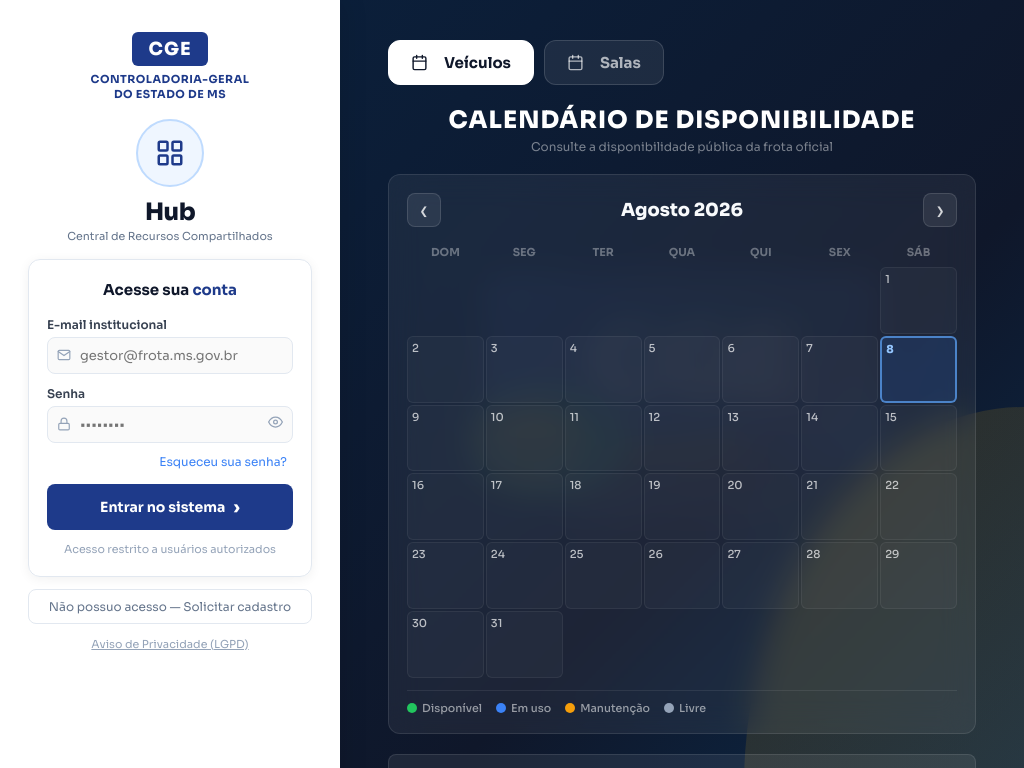
Scenario: Login — submissão do formulário › exibe mensagem de erro quando login falha
The image size is (1024, 768).
Type "errado@cge.ms.gov.br" into the field labelled "E-mail institucional". click: (170, 355)
box: [47,337,293,374]
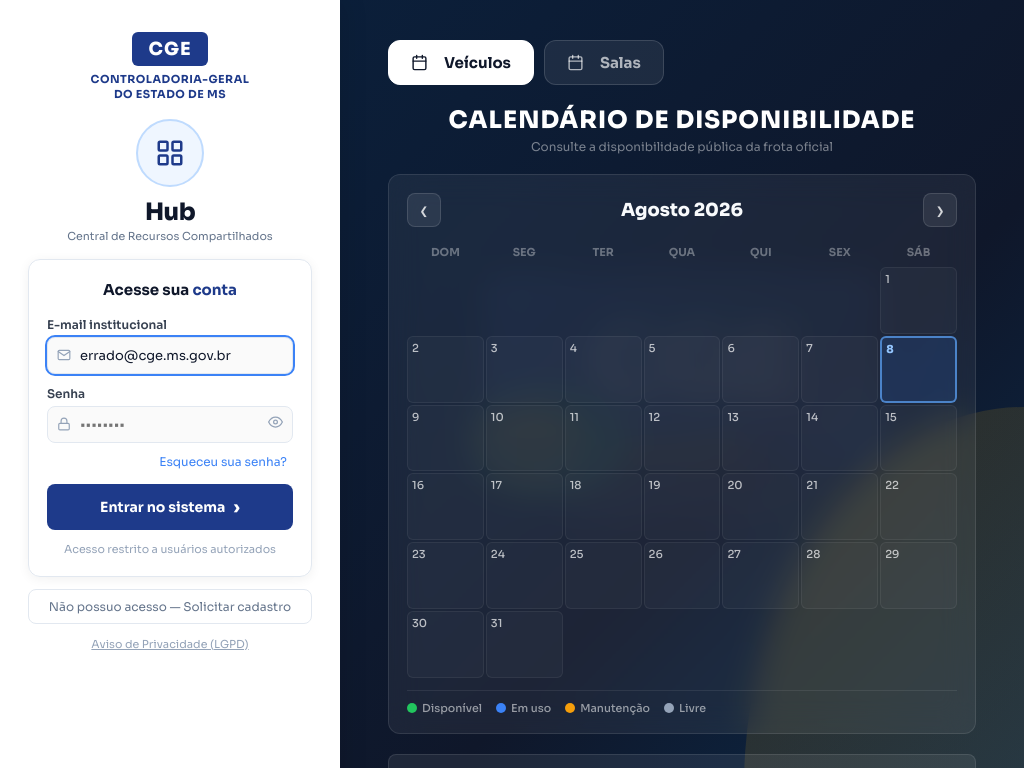
Type "senhaerrada" into the password field labelled "Senha". click: (170, 424)
box: [47,406,293,443]
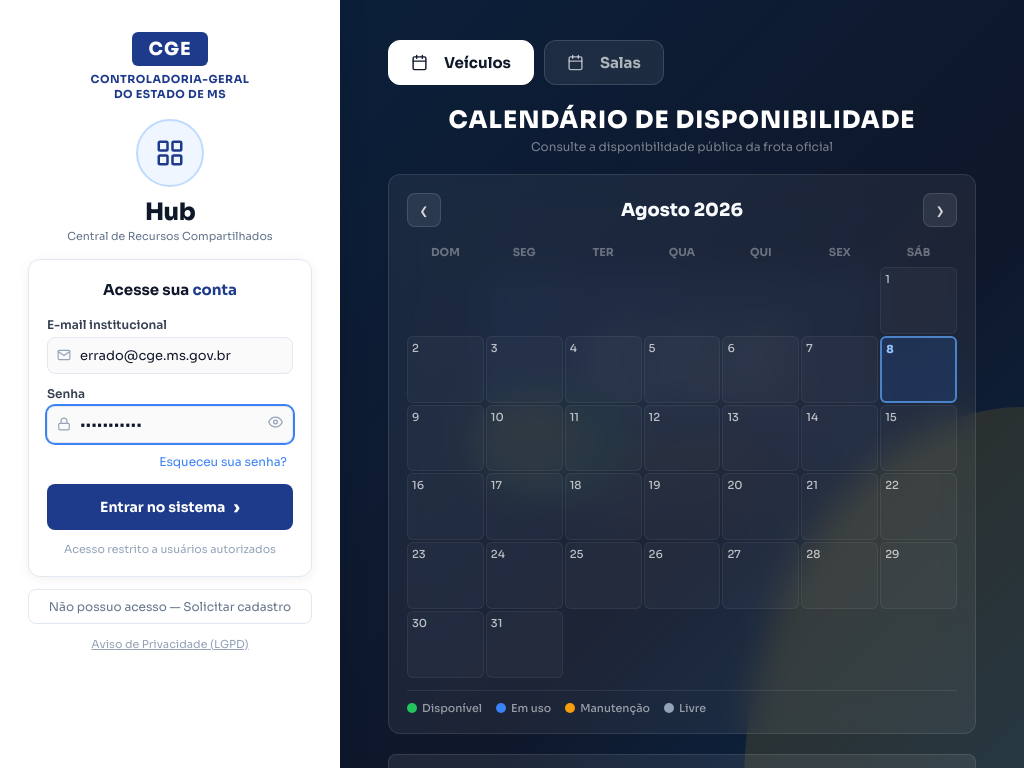
Submit the form "Entrar no sistema", box [47,317,293,530]
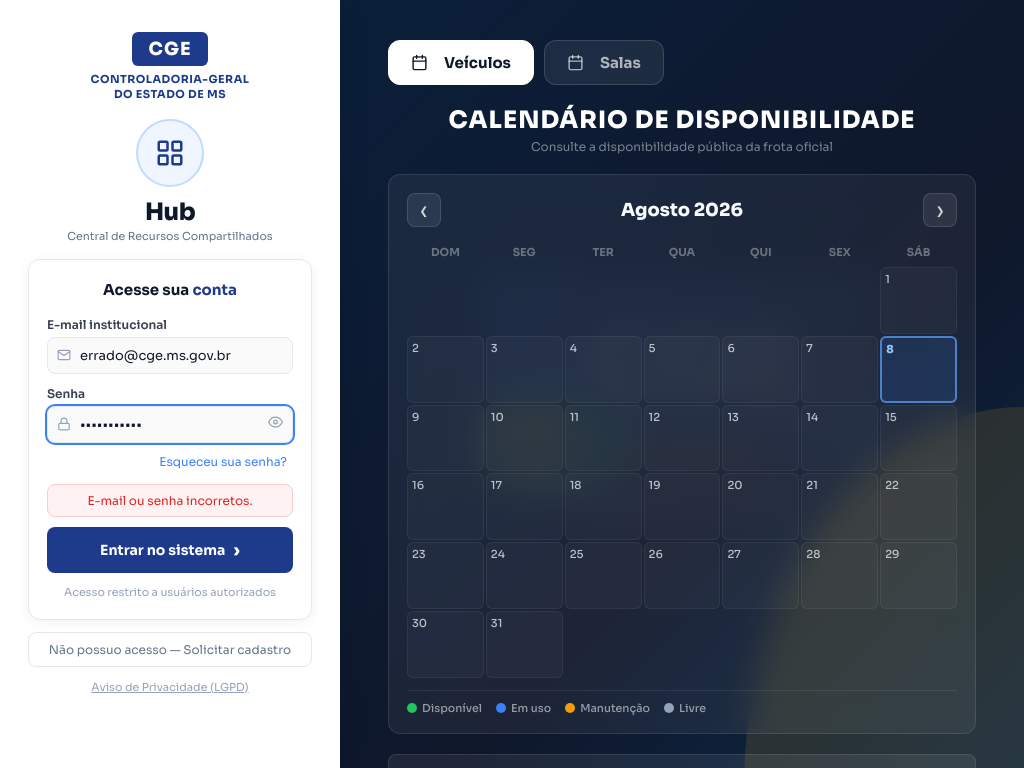
expect the text "E-mail ou senha incorretos." is shown: met, box [47,484,293,517]
